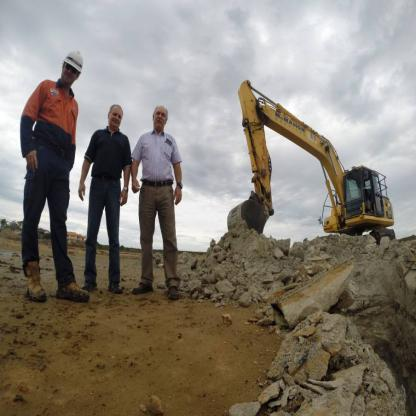excavator: (221, 70, 406, 258)
person: (14, 28, 88, 309), (132, 87, 193, 304), (81, 86, 127, 308)
